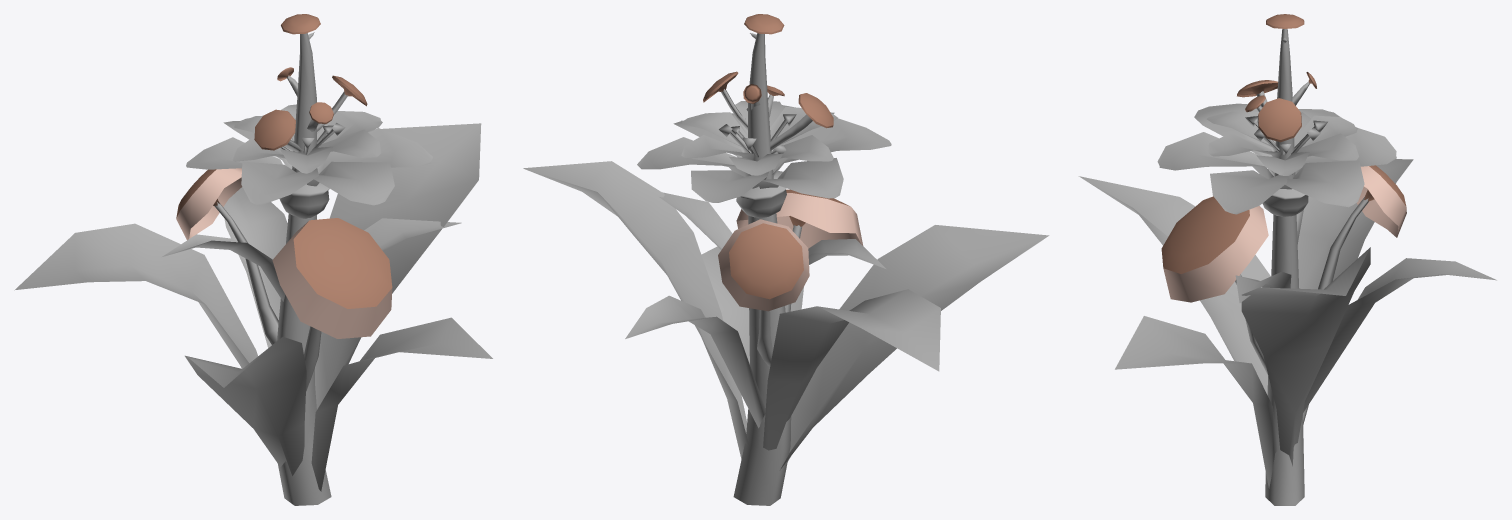
The model's file is MushFlower_Stage04.fbx.
The picture shows the model from 3 angles, left to right: view 1: azimuth 30°, elevation 25°; view 2: azimuth 150°, elevation 25°; view 3: azimuth 270°, elevation 25°; orthographic projection.
Visible parts, largest first — view 1: MushroomFlower_Stage04; view 2: MushroomFlower_Stage04; view 3: MushroomFlower_Stage04.
Boxes of the visible parts, x1=… form: MushroomFlower_Stage04: x1=14, y1=14, x2=492, y2=505; MushroomFlower_Stage04: x1=523, y1=14, x2=1049, y2=505; MushroomFlower_Stage04: x1=1078, y1=14, x2=1496, y2=505.
Size of the model in its own units: 35.65 by 37.06 by 29.54.
